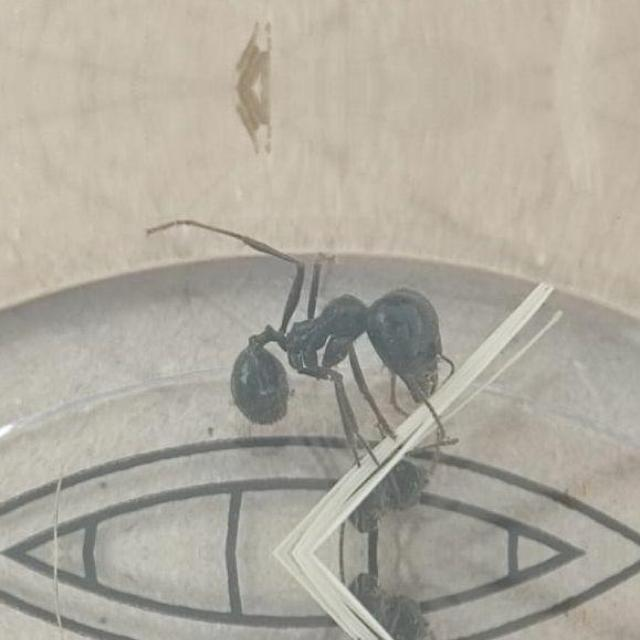Messor: (213, 238, 455, 477)
